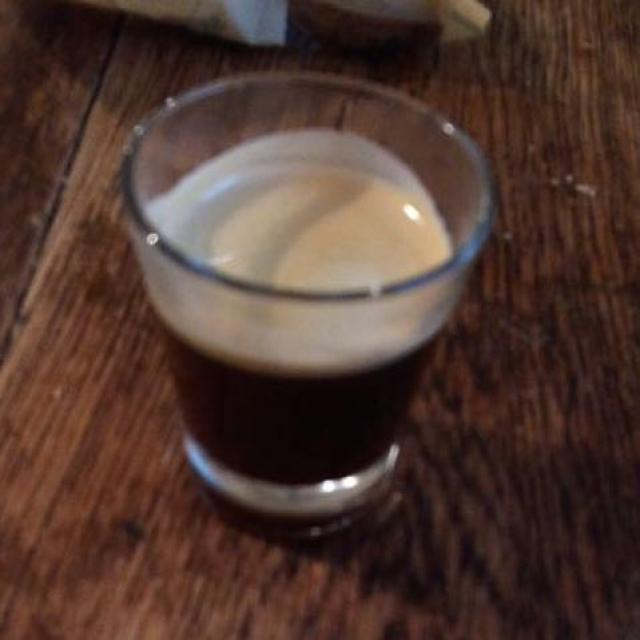espresso-with-caffeine: (156, 149, 454, 385)
